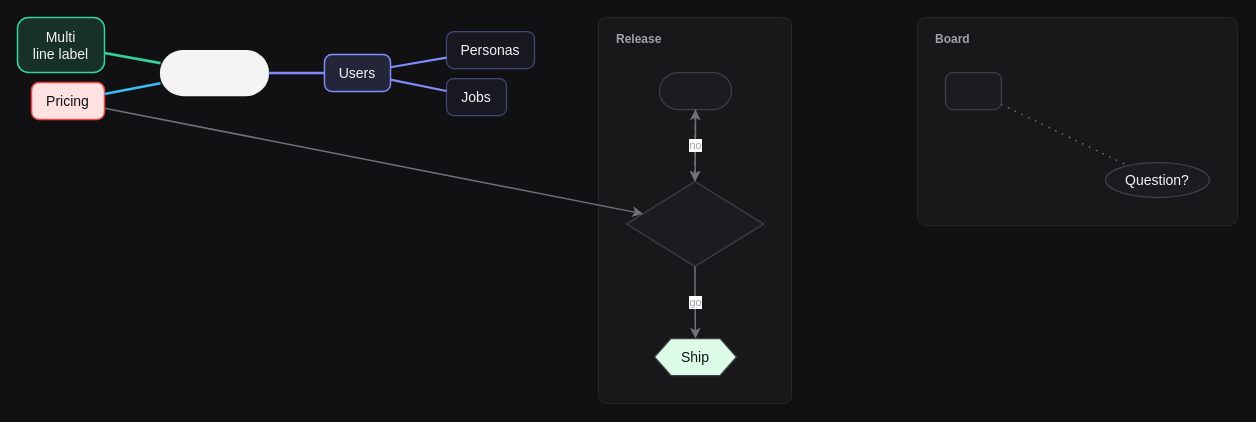
Image size: 1256x422. Some labels were removed from this diagram. The shapes that lost their labels are listed below. From the top down, each one's centre as x and y in pixels, then its label:
At pixel 214 72: "Launch".
At pixel 695 90: "Build".
At pixel 973 90: "Idea".
At pixel 694 223: "Tests pass?".
